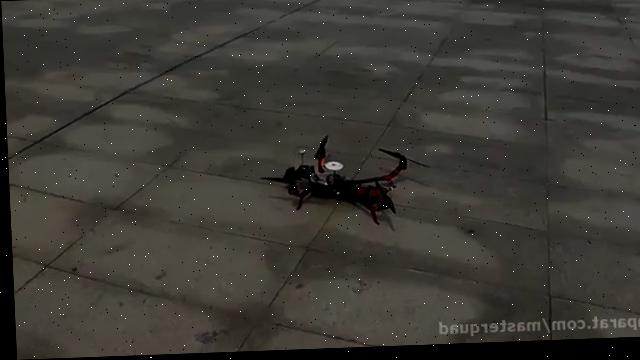drone: (254, 130, 431, 230)
